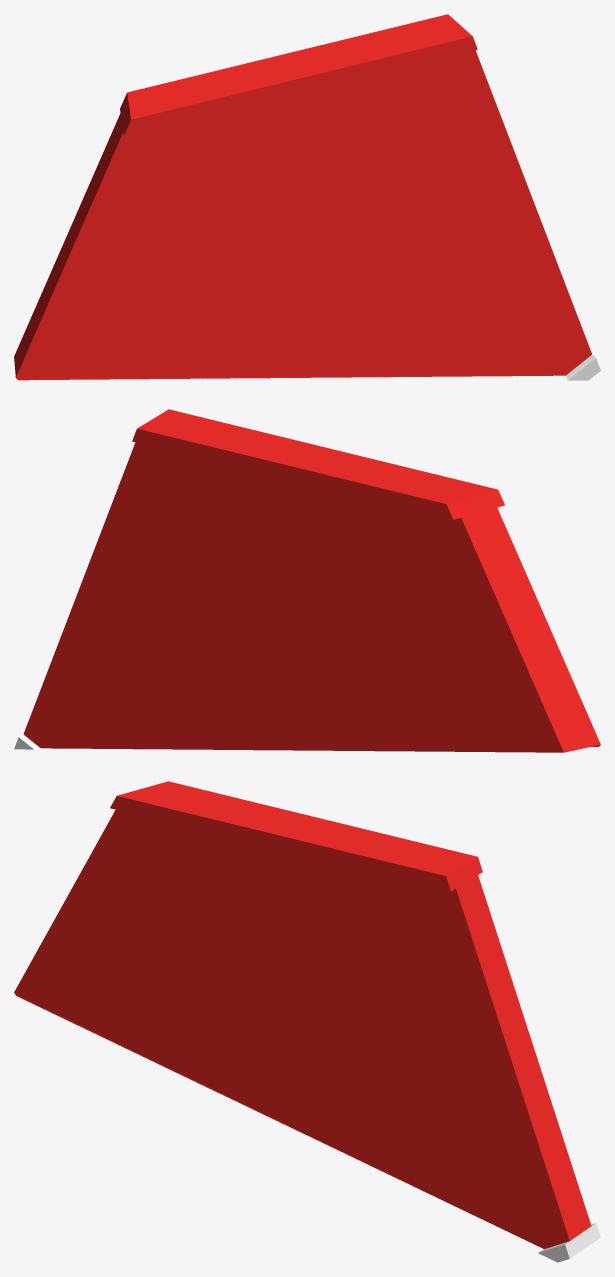
File: StopRedSmallMidle.fbx
The picture shows the model from 3 angles, top to bottom: view 1: azimuth 30°, elevation 25°; view 2: azimuth 150°, elevation 25°; view 3: azimuth 330°, elevation 25°; orthographic projection. The views are drawn at different scales.
Visible parts, largest first — view 1: StopRedBottom; view 2: StopRedBottom; view 3: StopRedBottom.
Part boxes in pixels (<box>): StopRedBottom: <box>14,14,600,380</box>; StopRedBottom: <box>14,409,600,752</box>; StopRedBottom: <box>14,781,600,1262</box>.
Size of the model in its own units: 1.83 by 1.11 by 0.1562.
